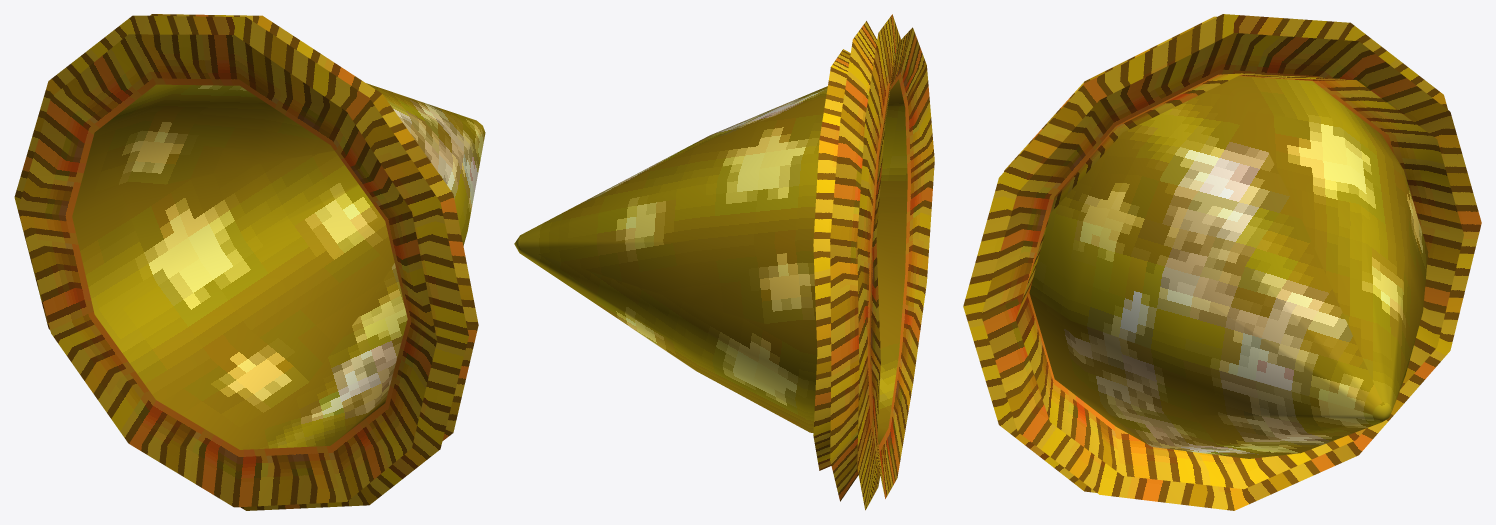
File: cap_newyear_ylw.dae
3 views of the same model, side by side, from view 1: azimuth 30°, elevation 25°; view 2: azimuth 150°, elevation 25°; view 3: azimuth 270°, elevation 25° (orthographic). The views are drawn at different scales.
Visible parts, largest first — view 1: cap_newyear_ylw; view 2: cap_newyear_ylw; view 3: cap_newyear_ylw.
Boxes of the visible parts, x1,y1,x2,y2 form: cap_newyear_ylw: (14, 14, 485, 510); cap_newyear_ylw: (514, 14, 934, 510); cap_newyear_ylw: (963, 14, 1481, 510).
Bounding box in the file's own units: 26.16 × 28.67 × 27.25.
2 materials, 2 textured.
